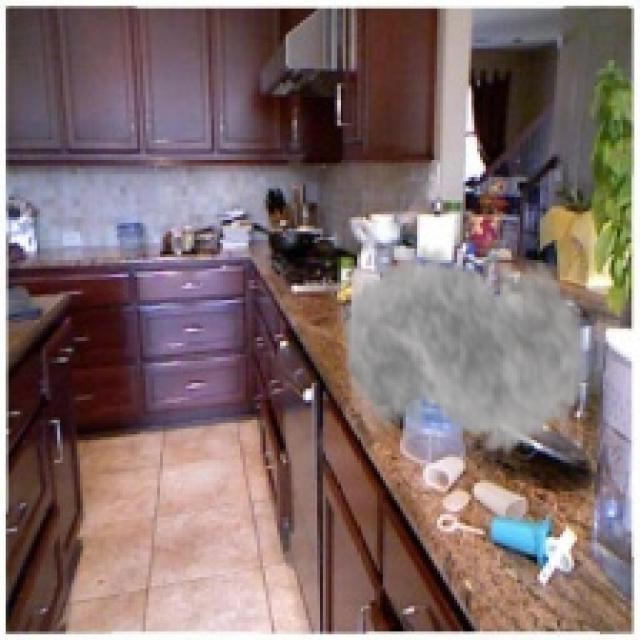smoke: (340, 217, 591, 474)
